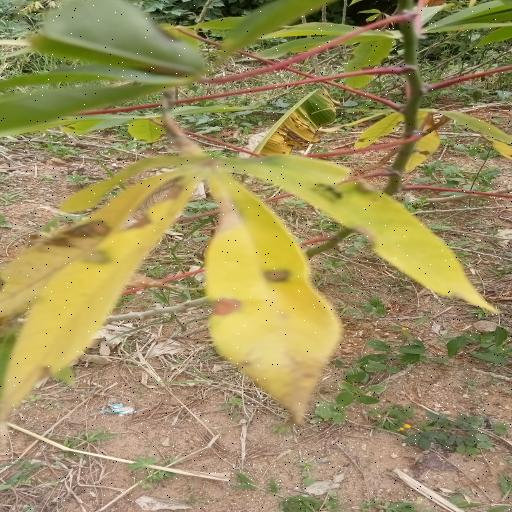Cassava_Brown_Leaf_Spot: (0, 137, 512, 436)
